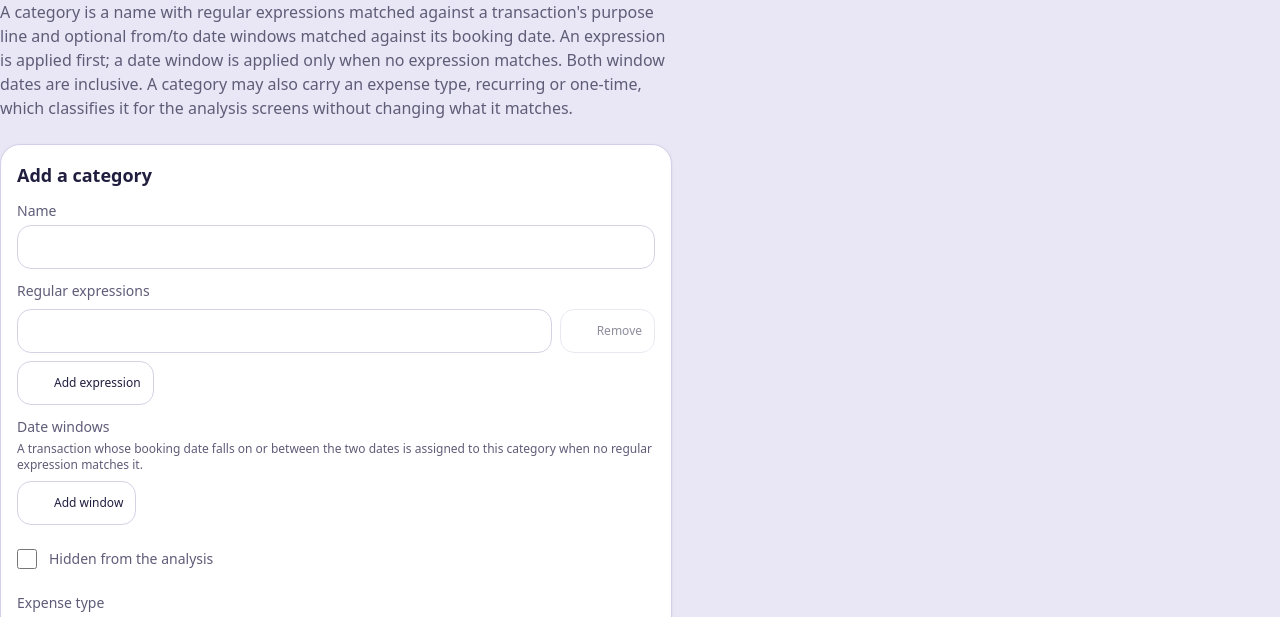
Test: category management page › previews the transactions the entered windows claim
The image size is (1280, 617).
Click the button with test id "add-window": [77, 503] box left=17, top=481, right=136, bottom=525
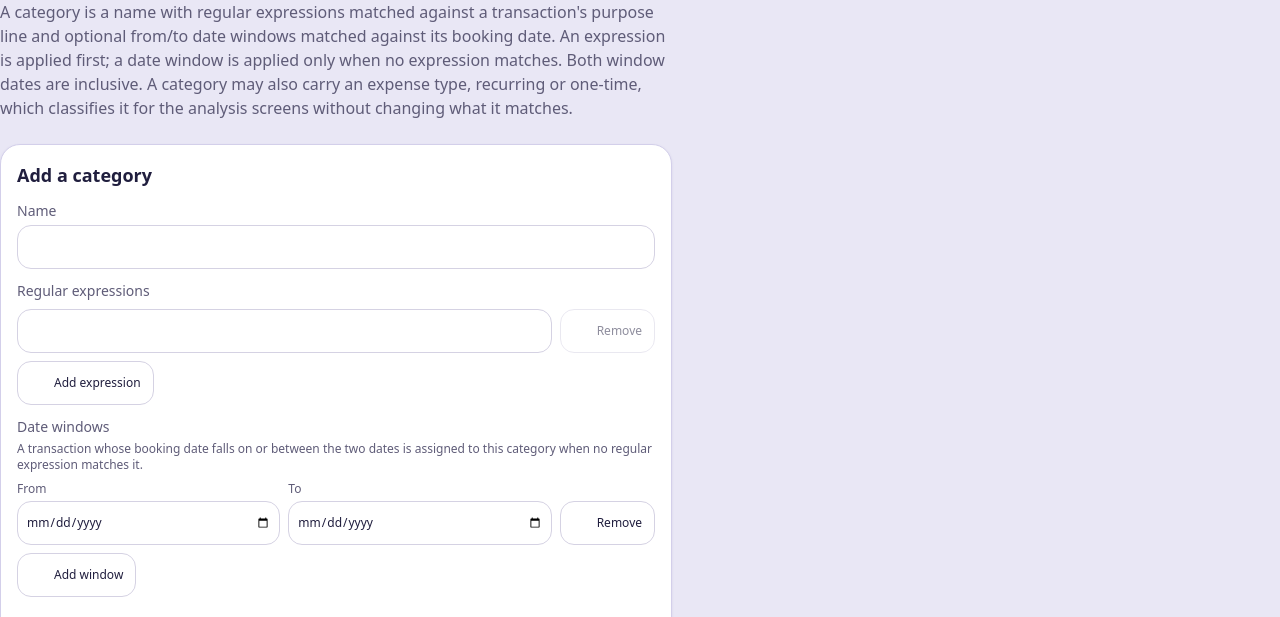
In the date field with test id "window-from": [149, 523] box left=17, top=501, right=280, bottom=545, type "2026-07-01"
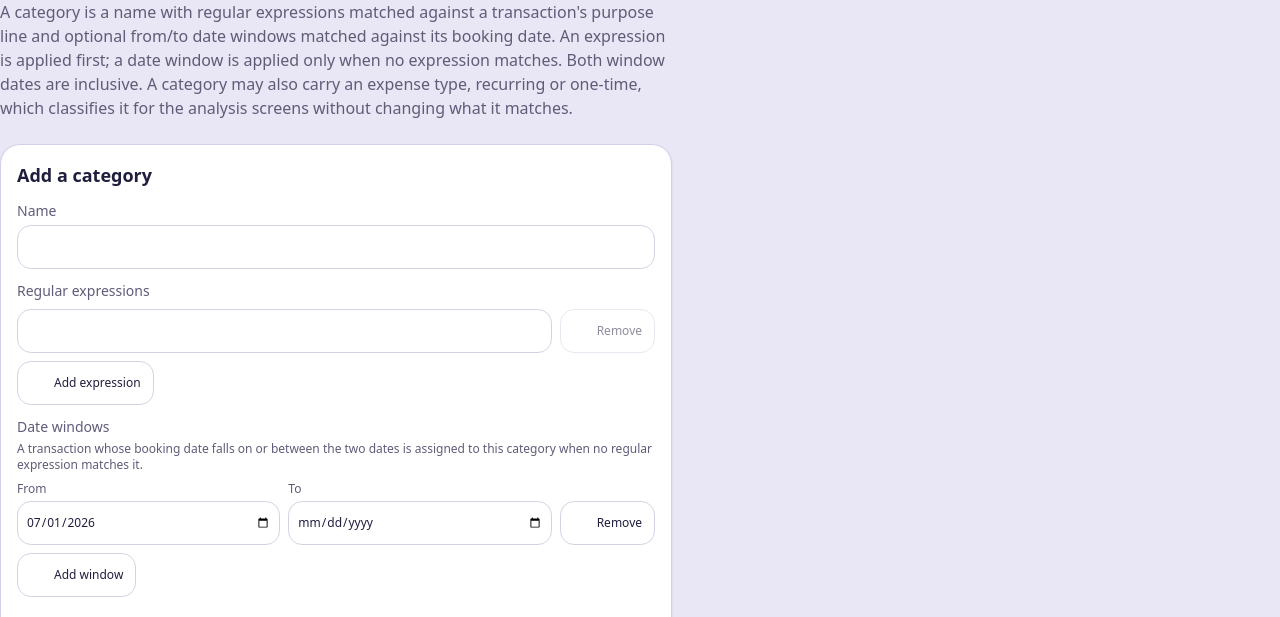
In the date field with test id "window-to": [420, 523] box left=288, top=501, right=552, bottom=545, type "2026-07-14"
Wait 250 ms
(page scrolled)
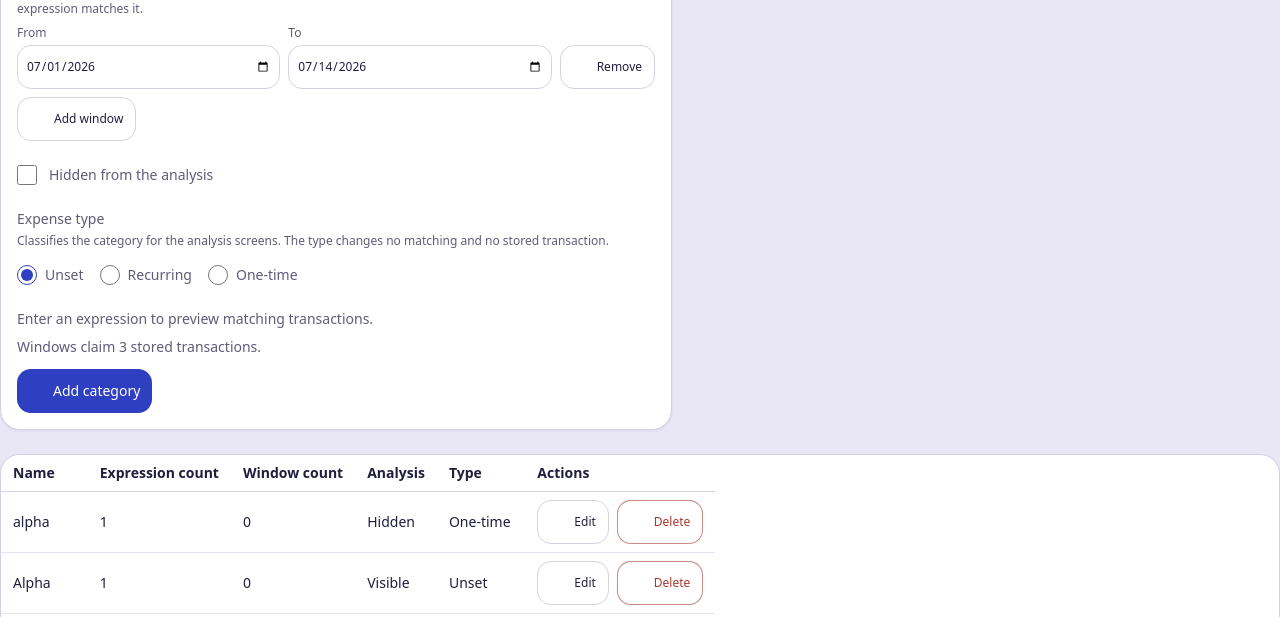
Check: the message with test id "window-match-count" shows "Windows claim 3 stored transactions", box left=17, top=337, right=261, bottom=356
